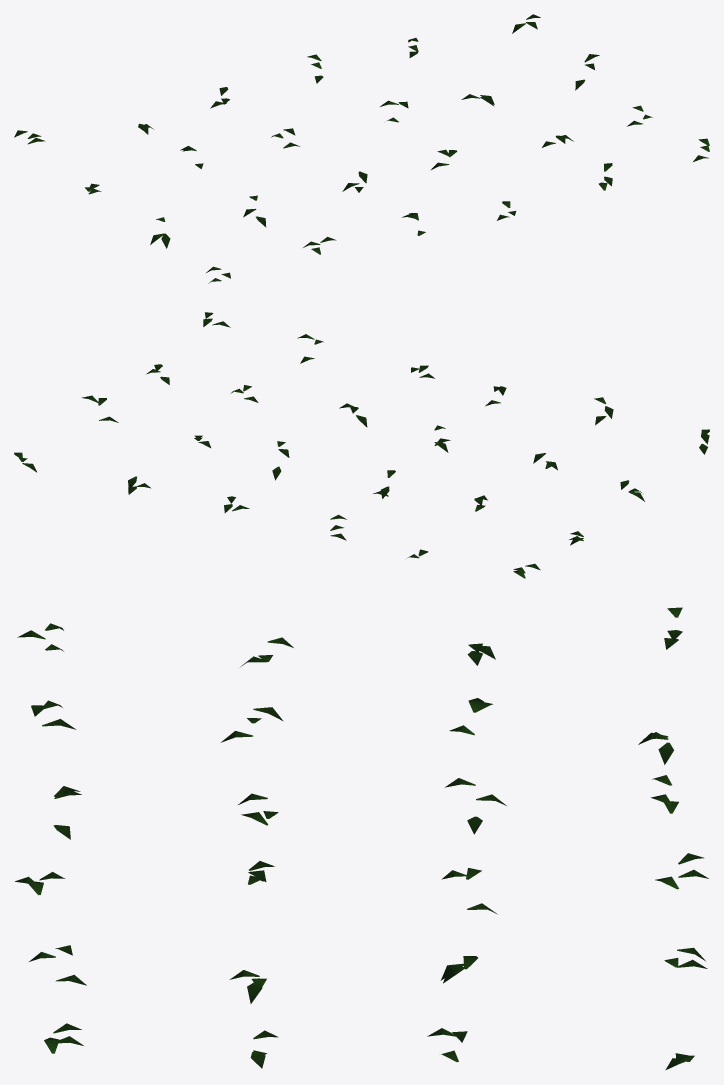
Rendered from fm_tomato_1.glb.
The picture shows the model from 3 angles, top to bottom: view 1: azimuth 30°, elevation 25°; view 2: azimuth 150°, elevation 25°; view 3: azimuth 270°, elevation 25°; orthographic projection. The views are drawn at different scales.
Visible parts, largest first — view 1: fm_tomato_1; view 2: fm_tomato_1; view 3: fm_tomato_1.
Boxes of the visible parts, x1,y1,x2,y2 form: fm_tomato_1: [14, 14, 709, 283]; fm_tomato_1: [14, 312, 709, 578]; fm_tomato_1: [15, 607, 708, 1070].
Bounding box in the file's own units: 3.6 × 0.1943 × 2.42.
